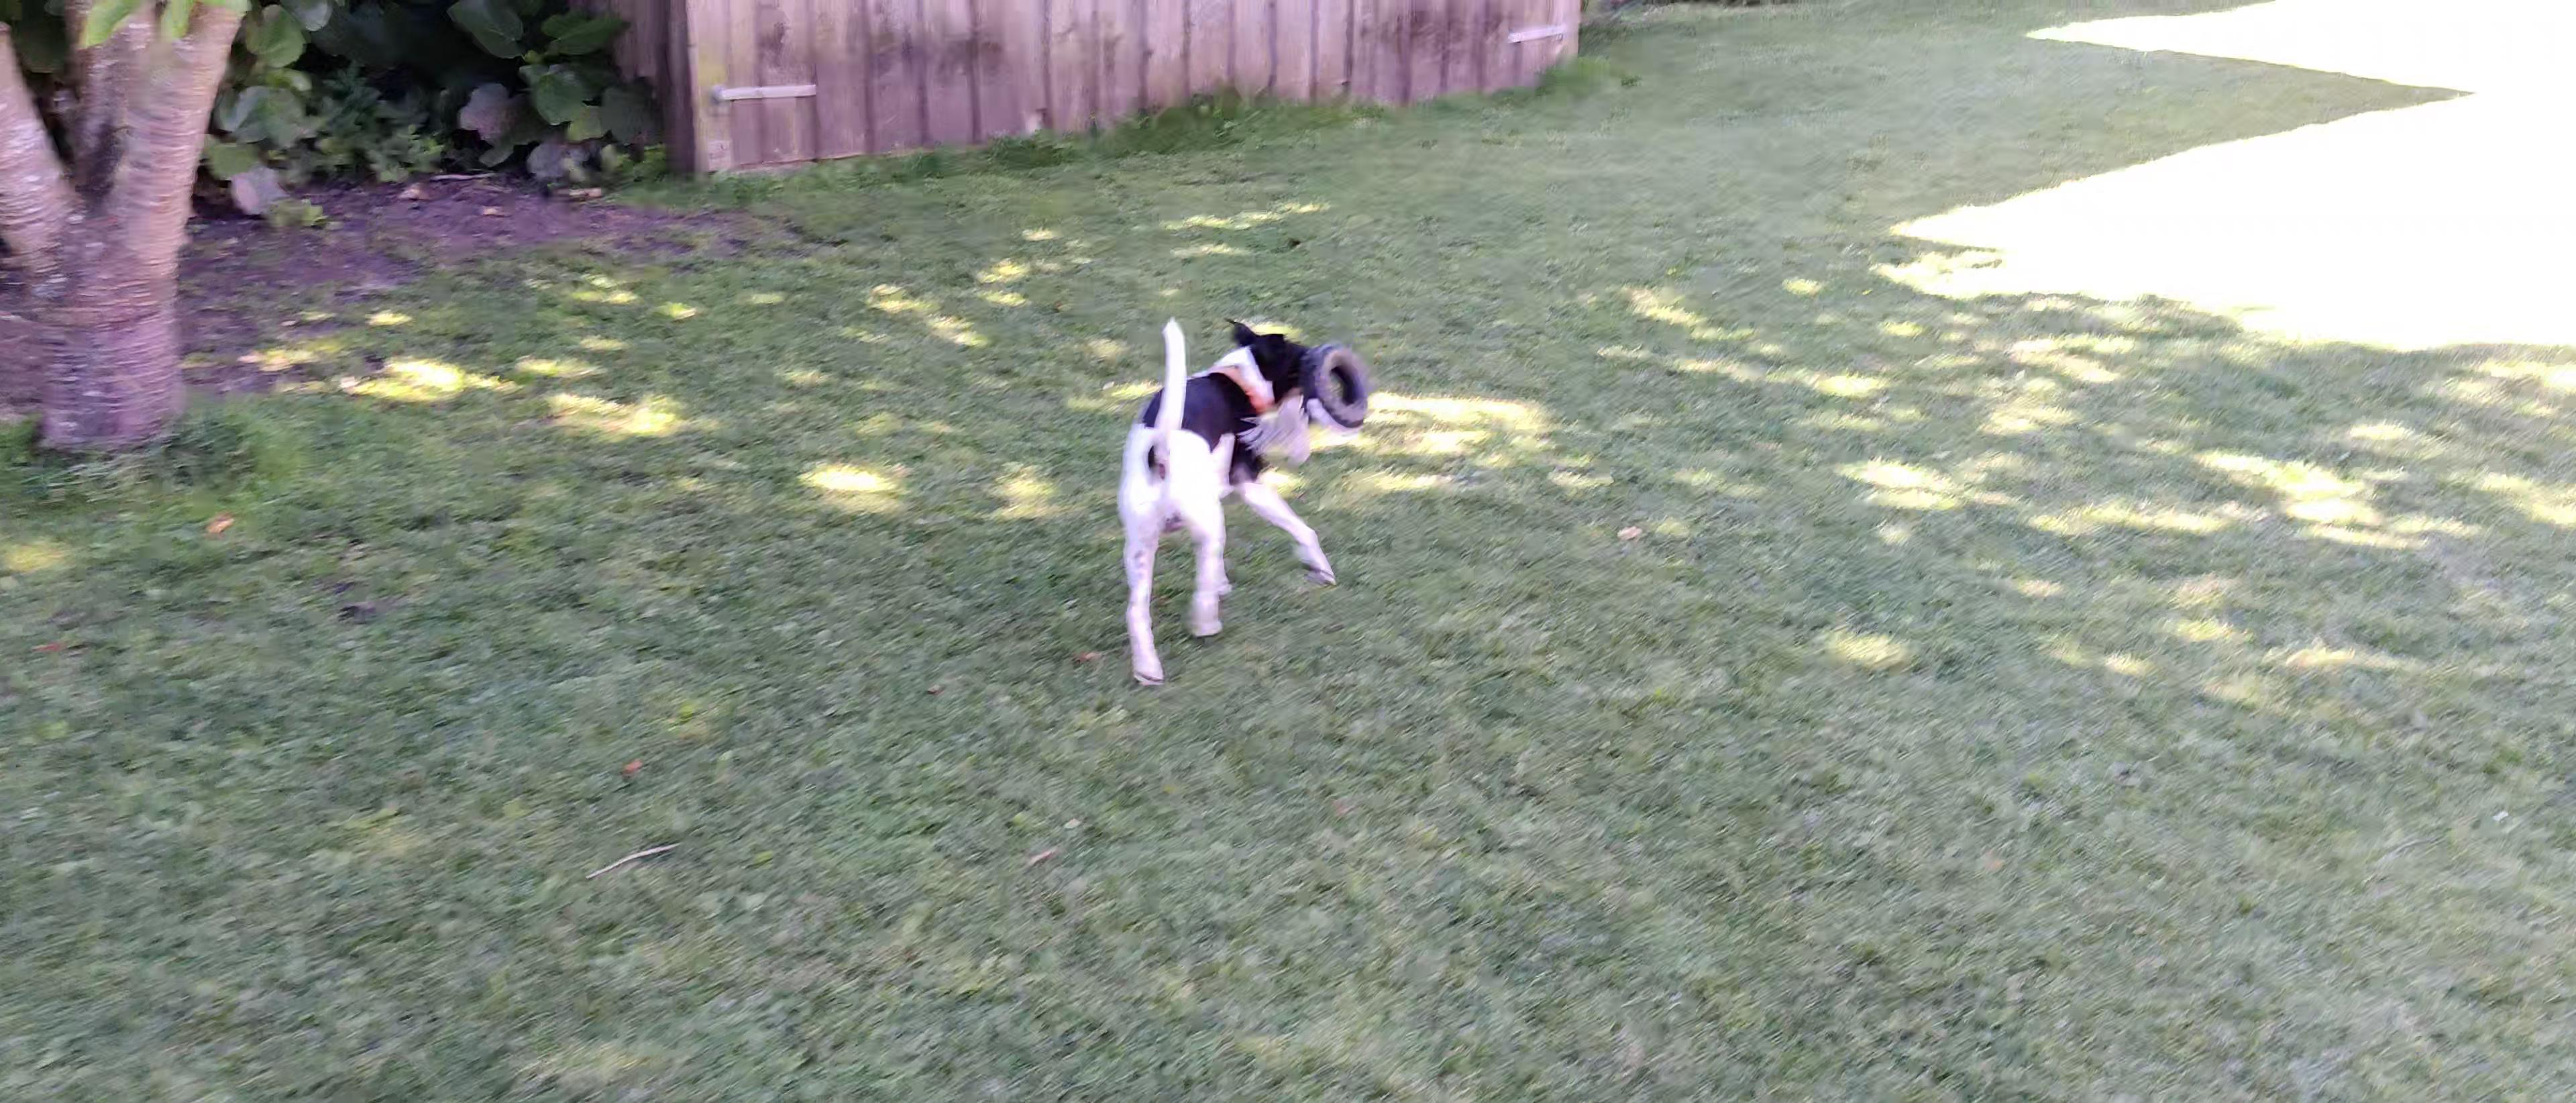Dog: (1107, 312, 1342, 699)
